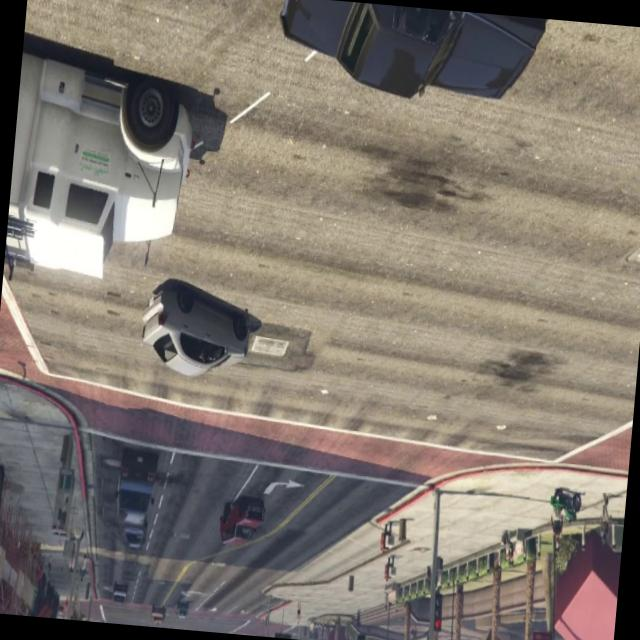Red-Signal: (430, 590, 446, 636), (272, 626, 294, 639), (354, 629, 370, 640)
